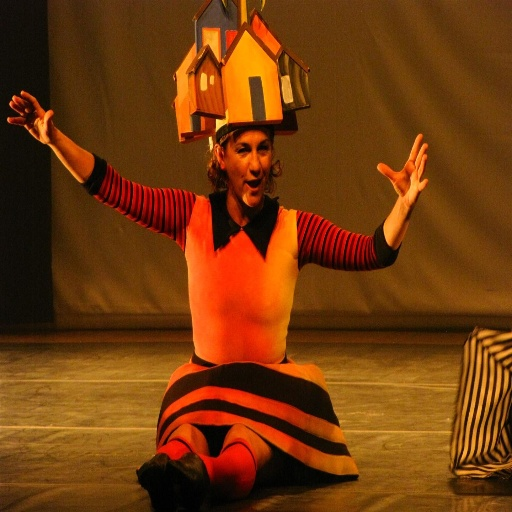hand: (375, 130, 434, 258), (6, 90, 55, 148)
